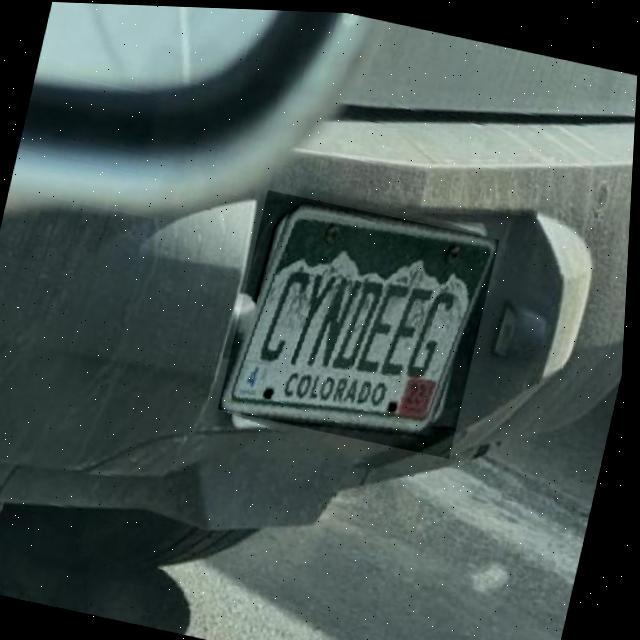LicensePlate: (222, 204, 501, 428)
